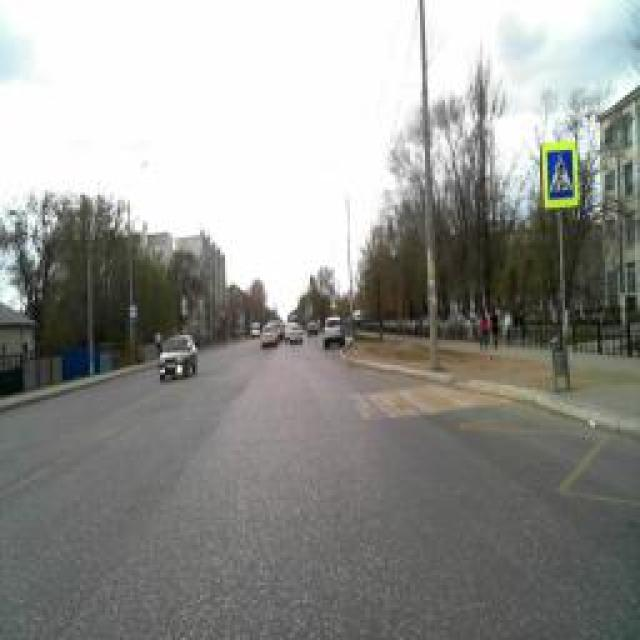sign: (182, 305, 186, 317)
